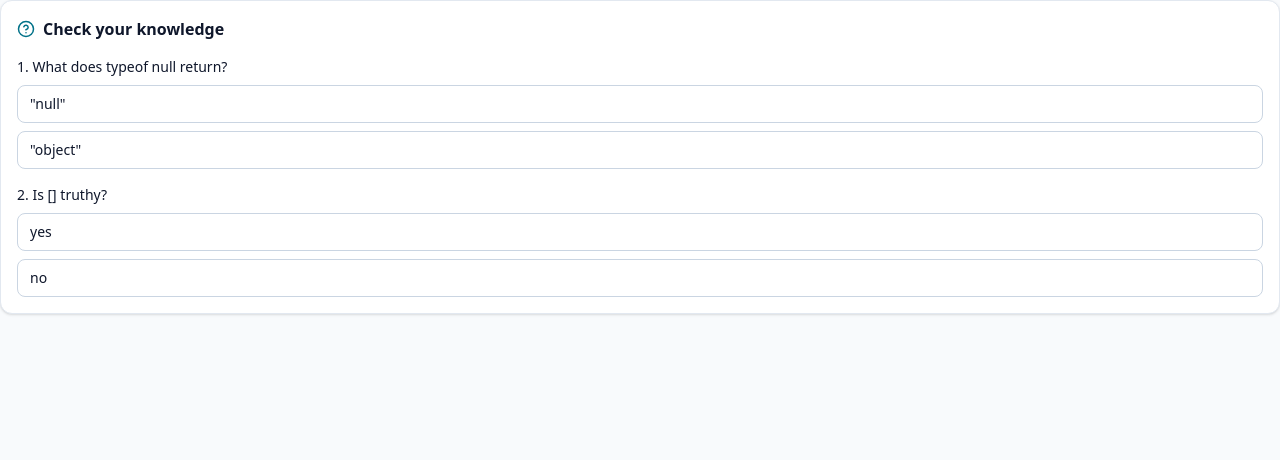
Test: Quiz › can be restarted once every question is answered
Click the button "\"object\"" at (56, 150), box [17,131,1263,169]
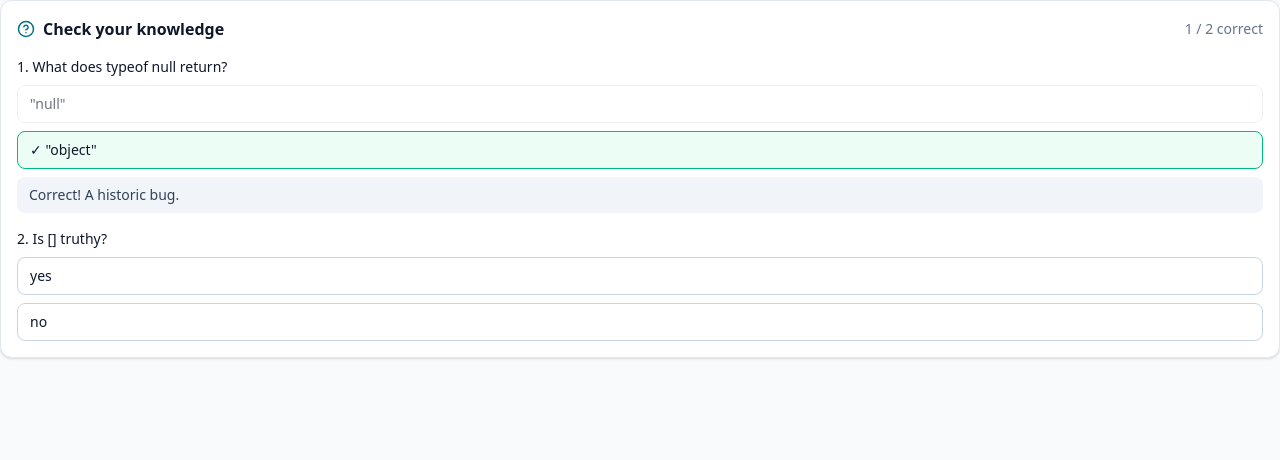
Click the button "no" at (39, 322), box [17,303,1263,341]
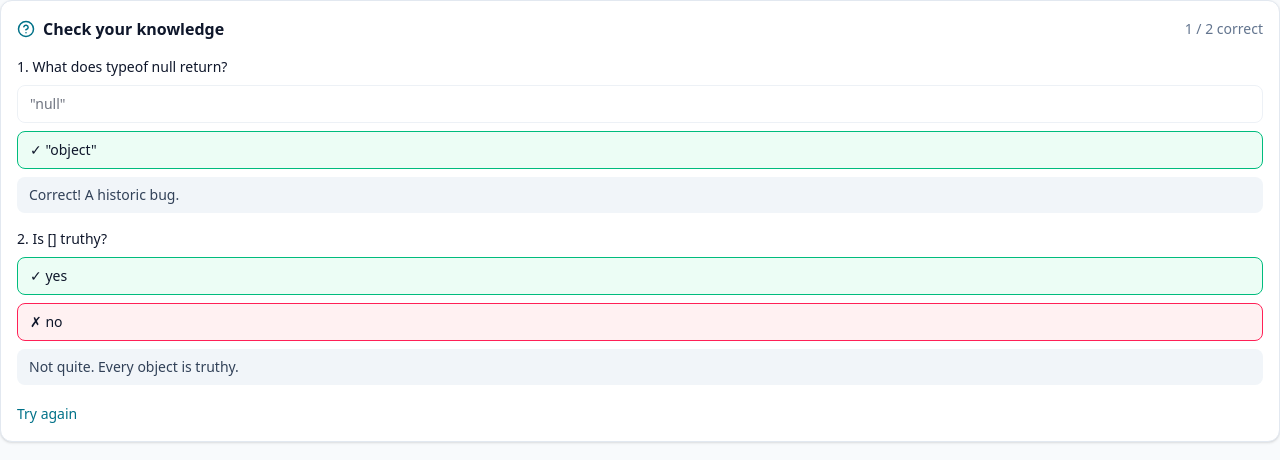
Click the button "Try again" at (47, 414), box [17,404,77,424]
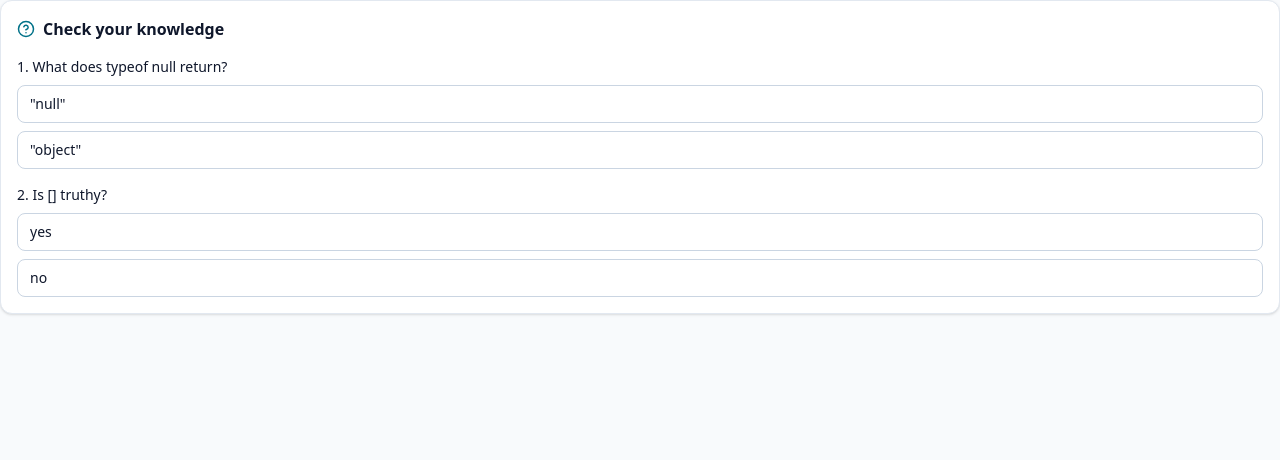
Now the text "correct" is gone
Now the button "yes" is enabled, box [17,213,1263,251]
